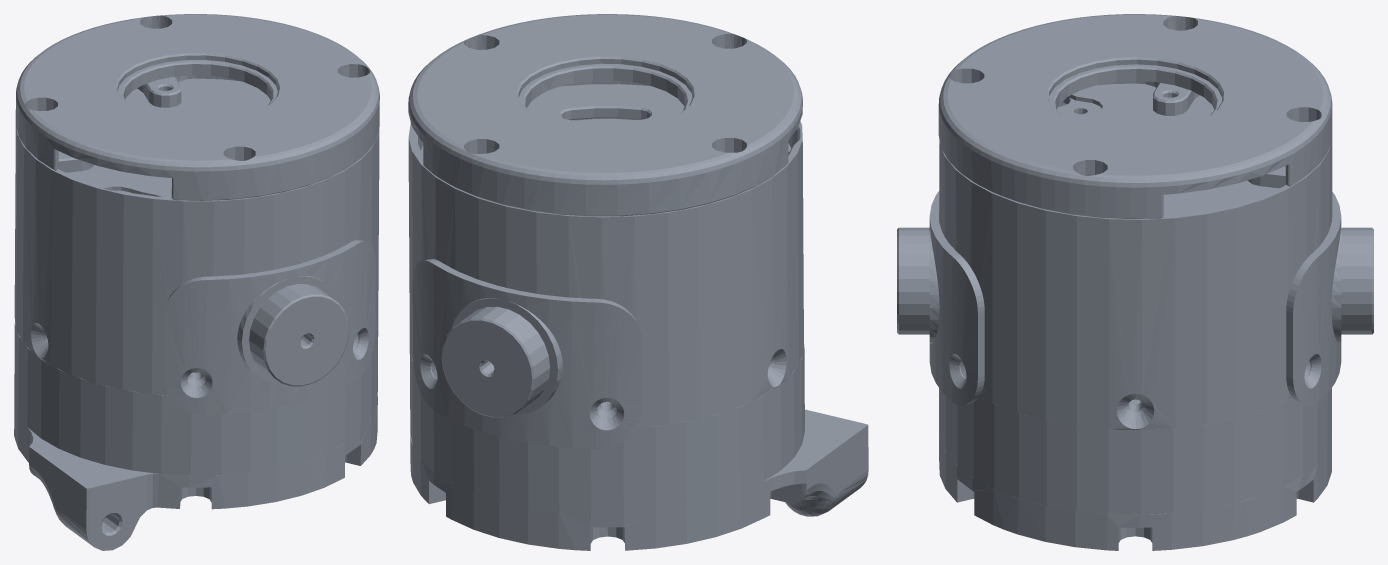
3 renders of one model, left to right at view 1: azimuth 30°, elevation 25°; view 2: azimuth 150°, elevation 25°; view 3: azimuth 270°, elevation 25°, orthographic. The views are drawn at different scales.
Size of the model in its own units: 0.0467 by 0.0505 by 0.0533.
